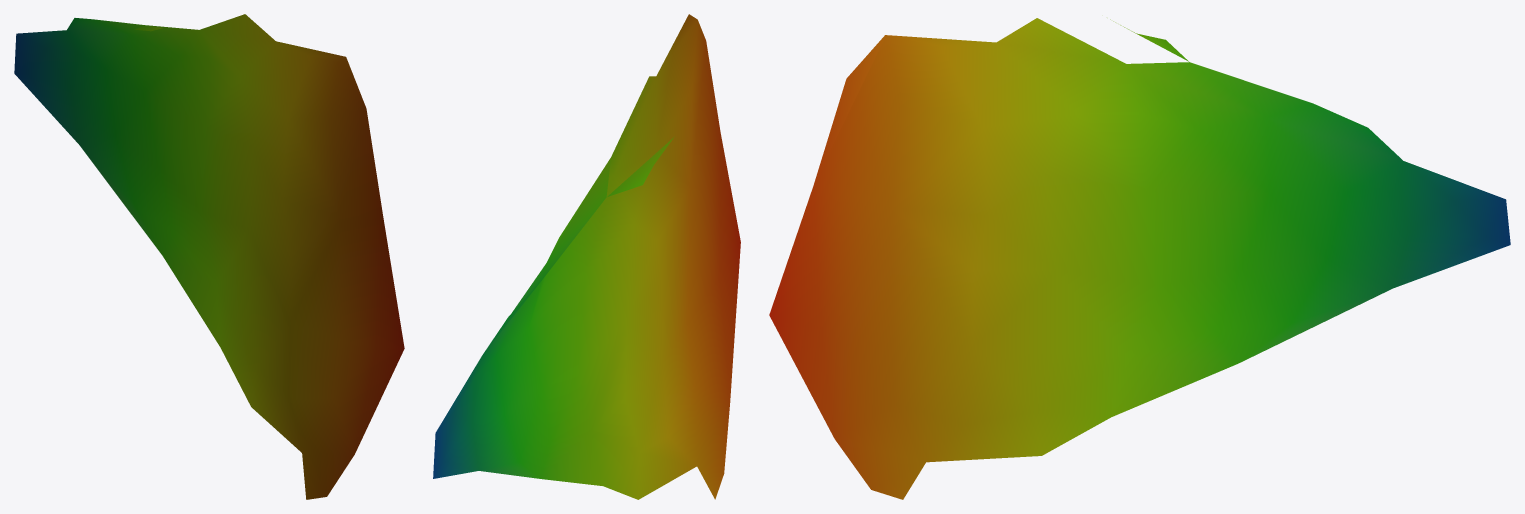
3 views of the same model, side by side, from view 1: azimuth 30°, elevation 25°; view 2: azimuth 150°, elevation 25°; view 3: azimuth 270°, elevation 25° (orthographic). The views are drawn at different scales.
Size of the model in its own units: 0.0246 by 0.1154 by 0.1608.
